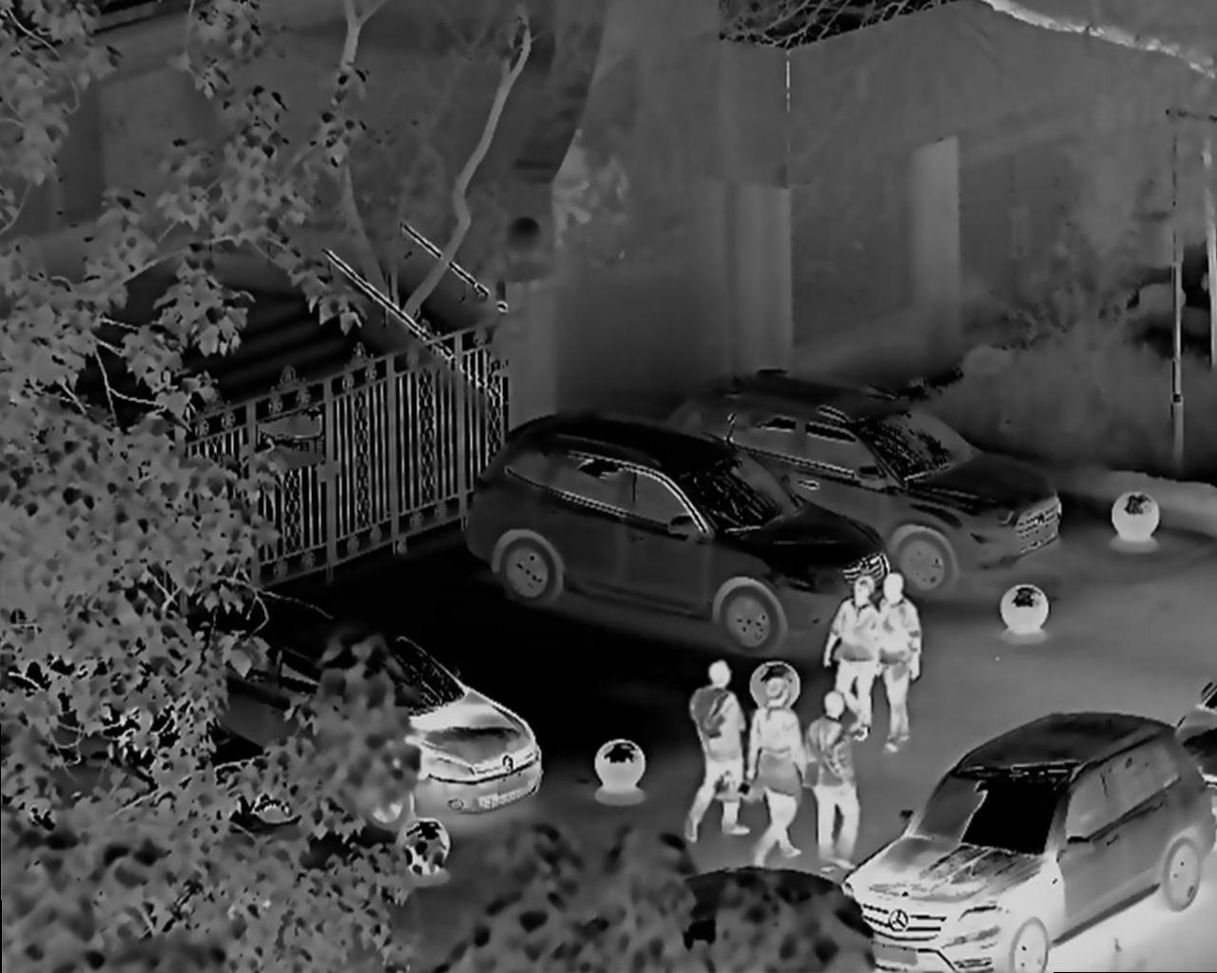person: (742, 690, 801, 861), (869, 574, 923, 740), (807, 709, 861, 856), (691, 662, 736, 830), (828, 576, 874, 726)
